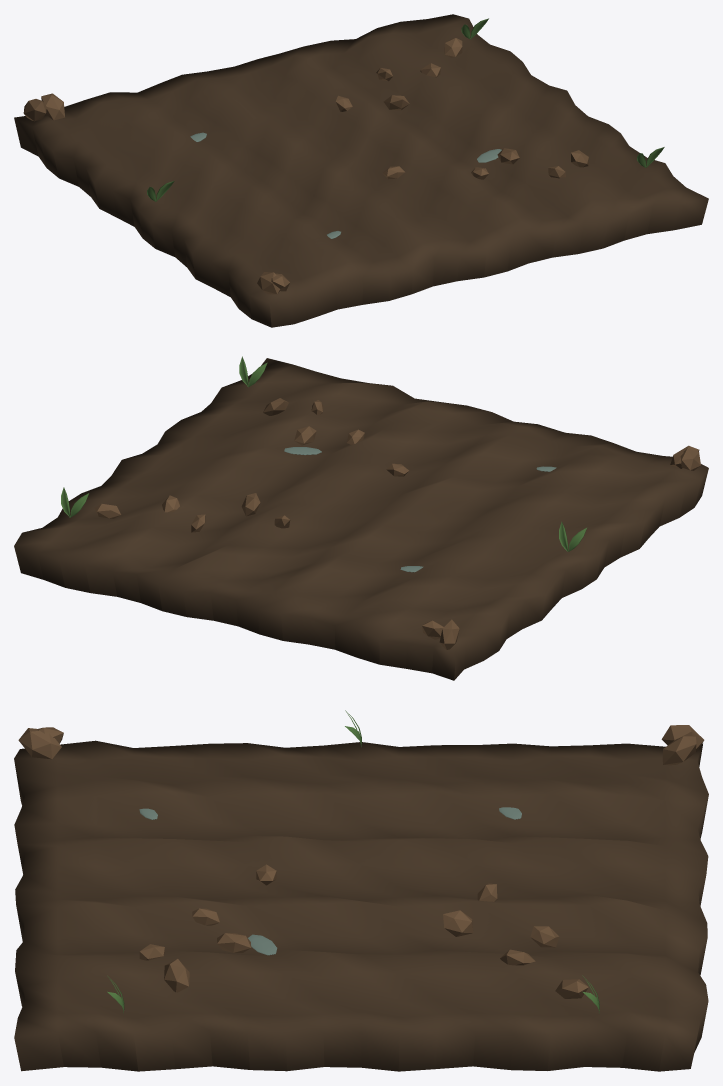
File: parcela_regada.glb
3 views of the same model, one above another, from view 1: azimuth 30°, elevation 25°; view 2: azimuth 150°, elevation 25°; view 3: azimuth 270°, elevation 25° (orthographic). The views are drawn at different scales.
Visible parts, largest first — view 1: parcela_regada; view 2: parcela_regada; view 3: parcela_regada.
Part boxes in pixels (left/top/right/bottom): parcela_regada: left=14, top=14, right=708, bottom=327; parcela_regada: left=14, top=356, right=708, bottom=680; parcela_regada: left=14, top=710, right=708, bottom=1071.
Size of the model in its own units: 1.41 by 0.1694 by 1.4.
